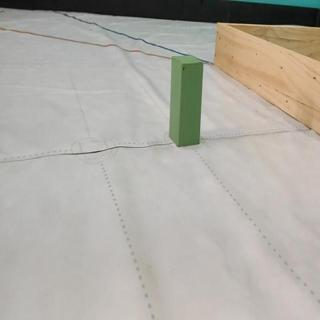greenbox: (167, 55, 205, 148)
